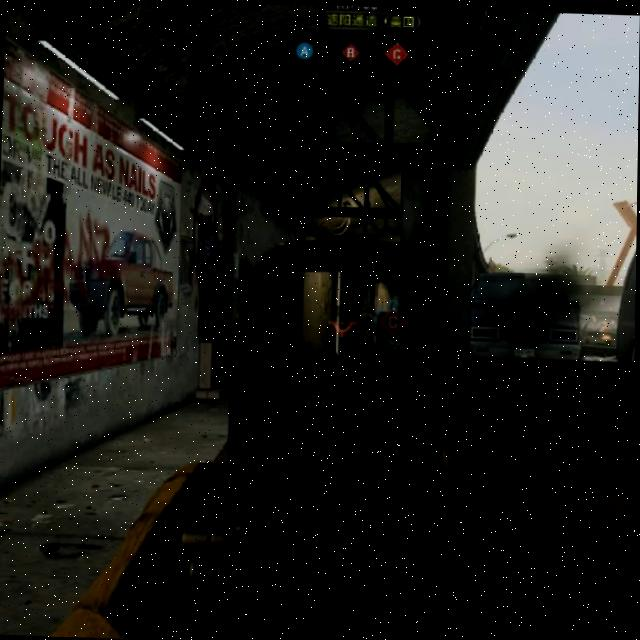MW2_body: (356, 308, 377, 349)
